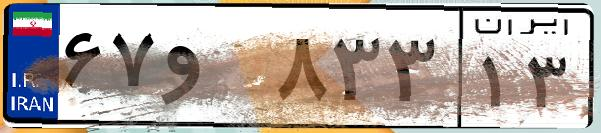1: (475, 38, 525, 113)
3: (385, 28, 445, 110), (330, 28, 385, 110), (525, 38, 570, 115)
6: (57, 26, 110, 100)
7: (110, 28, 158, 98)
8: (270, 28, 330, 110)
و: (158, 20, 270, 120)
